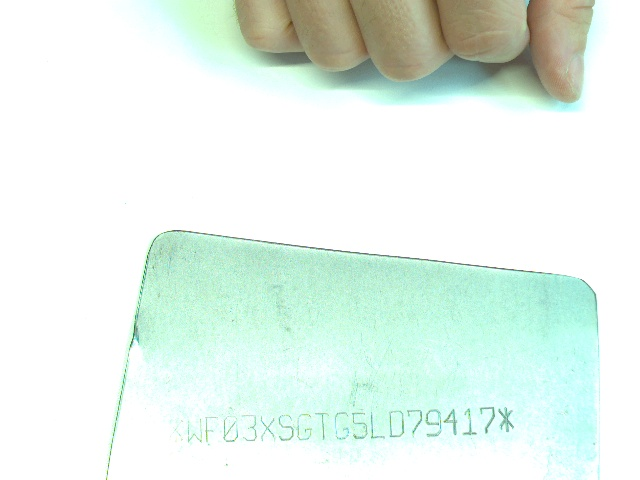0: (222, 414, 240, 445)
1: (462, 407, 478, 438)
3: (240, 413, 258, 444)
4: (443, 407, 460, 437)
5: (352, 411, 370, 442)
7: (478, 405, 496, 435), (407, 408, 423, 438)
9: (424, 408, 443, 437)
d: (388, 409, 406, 438)
f: (204, 415, 221, 445)
g: (332, 409, 353, 441), (295, 412, 313, 441)
l: (369, 410, 386, 441)
s: (277, 412, 294, 442)
t: (313, 411, 331, 441)
w: (185, 416, 204, 444)
x: (259, 413, 278, 442)
